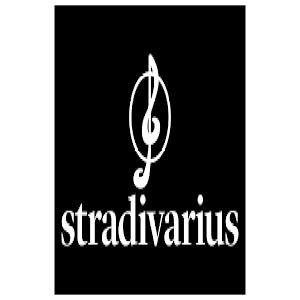stradivarius: (60, 49, 242, 260)
